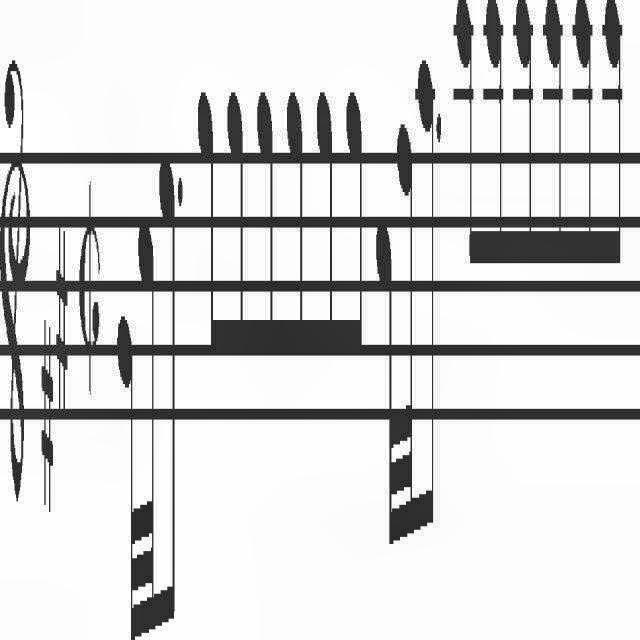Bass-clef: (1, 56, 32, 508)
Diez: (40, 316, 54, 520), (55, 226, 69, 417)
Eighth-note: (414, 55, 436, 538), (158, 157, 176, 636), (223, 88, 249, 368), (509, 0, 534, 284), (452, 0, 476, 288), (540, 0, 564, 288), (570, 0, 594, 288), (481, 0, 505, 284), (254, 85, 276, 387), (598, 0, 621, 284), (284, 85, 304, 395), (344, 83, 364, 393), (196, 86, 218, 367), (314, 86, 334, 380)
